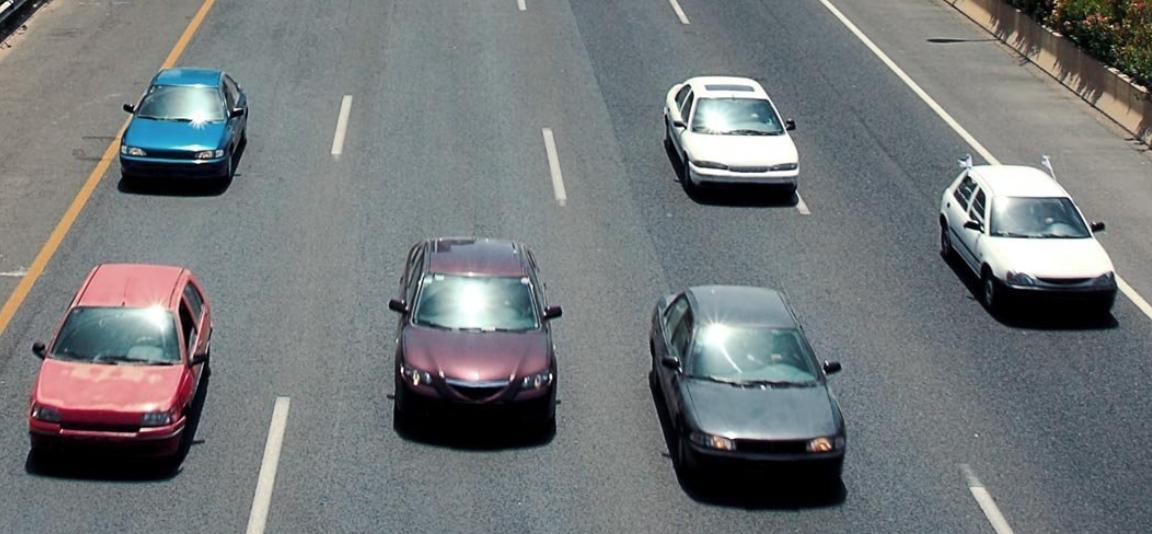car: (26, 242, 220, 469), (640, 278, 854, 481), (384, 225, 572, 449), (934, 144, 1124, 335), (660, 68, 807, 201), (114, 56, 249, 197)
